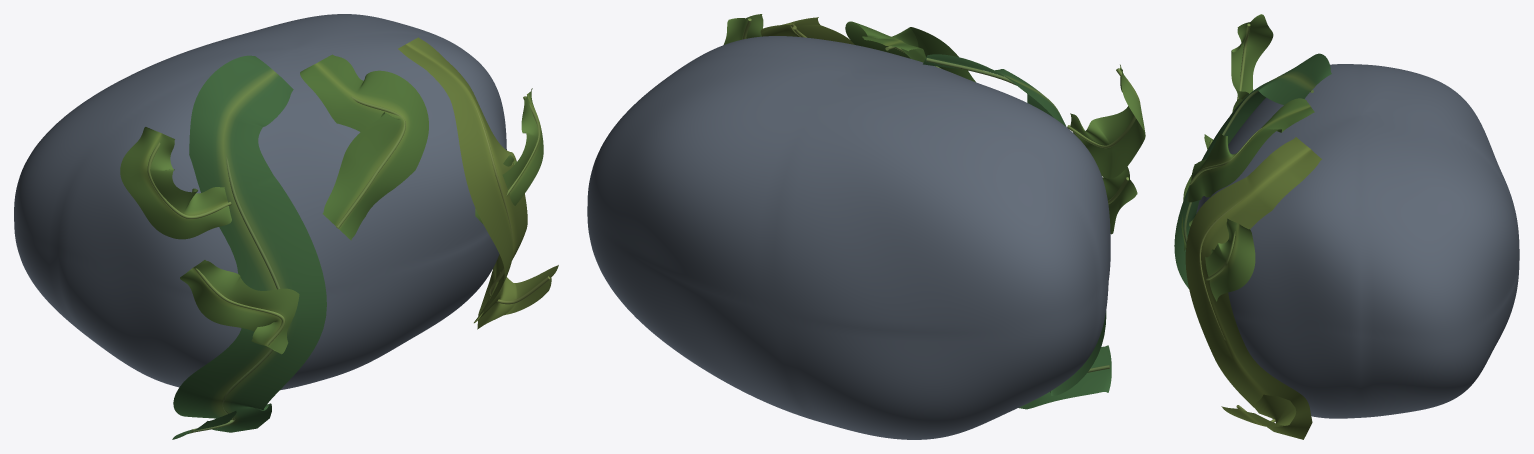
File: Sea_Rock.glb
The picture shows the model from 3 angles, left to right: view 1: azimuth 30°, elevation 25°; view 2: azimuth 150°, elevation 25°; view 3: azimuth 270°, elevation 25°; orthographic projection. The views are drawn at different scales.
Parts seen in each view (by area): view 1: Sea_Rock; view 2: Sea_Rock; view 3: Sea_Rock.
Part boxes in pixels (x1,y1,x2,y2): Sea_Rock: (14, 14, 558, 439); Sea_Rock: (587, 14, 1145, 439); Sea_Rock: (1174, 14, 1519, 439).
Size of the model in its own units: 1.3 by 0.9424 by 0.9295.
